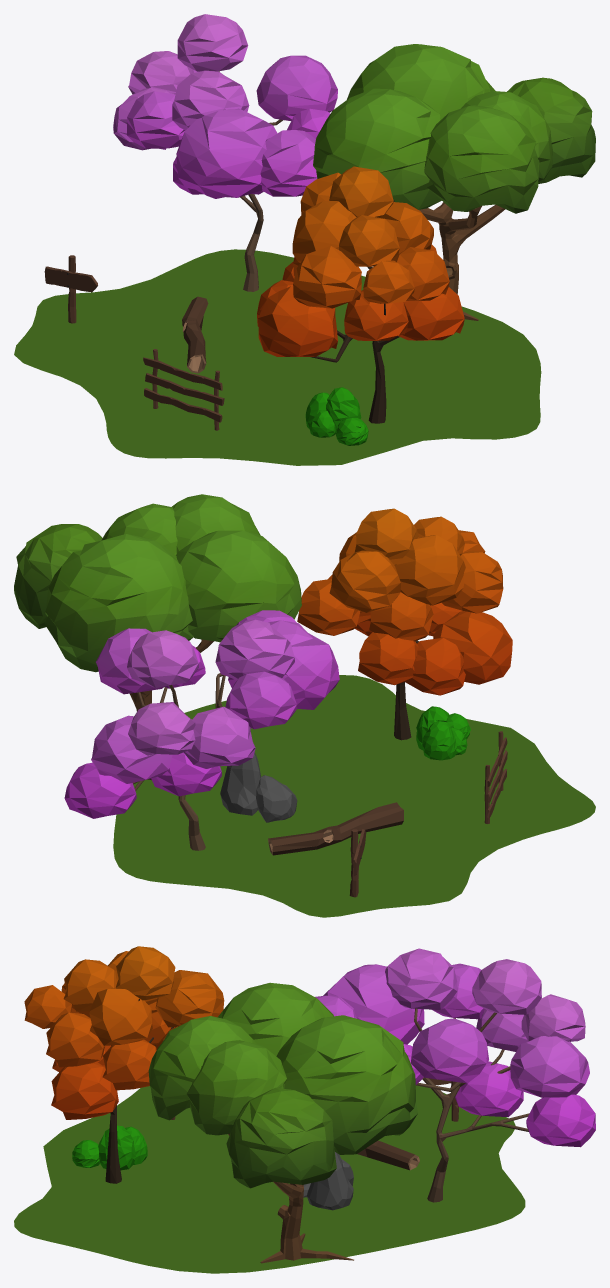
The model's file is demo.glb.
The picture shows the model from 3 angles, top to bottom: view 1: azimuth 30°, elevation 25°; view 2: azimuth 150°, elevation 25°; view 3: azimuth 270°, elevation 25°; orthographic projection. The views are drawn at different scales.
Parts seen in each view (by area): view 1: demo; view 2: demo; view 3: demo.
Boxes of the visible parts, <box> form: demo: <box>14,14,595,465</box>; demo: <box>14,494,595,917</box>; demo: <box>14,946,595,1273</box>.
Bounding box in the file's own units: 17.33 × 7.77 × 17.3.
Materials: 1 (1 with a texture image).
